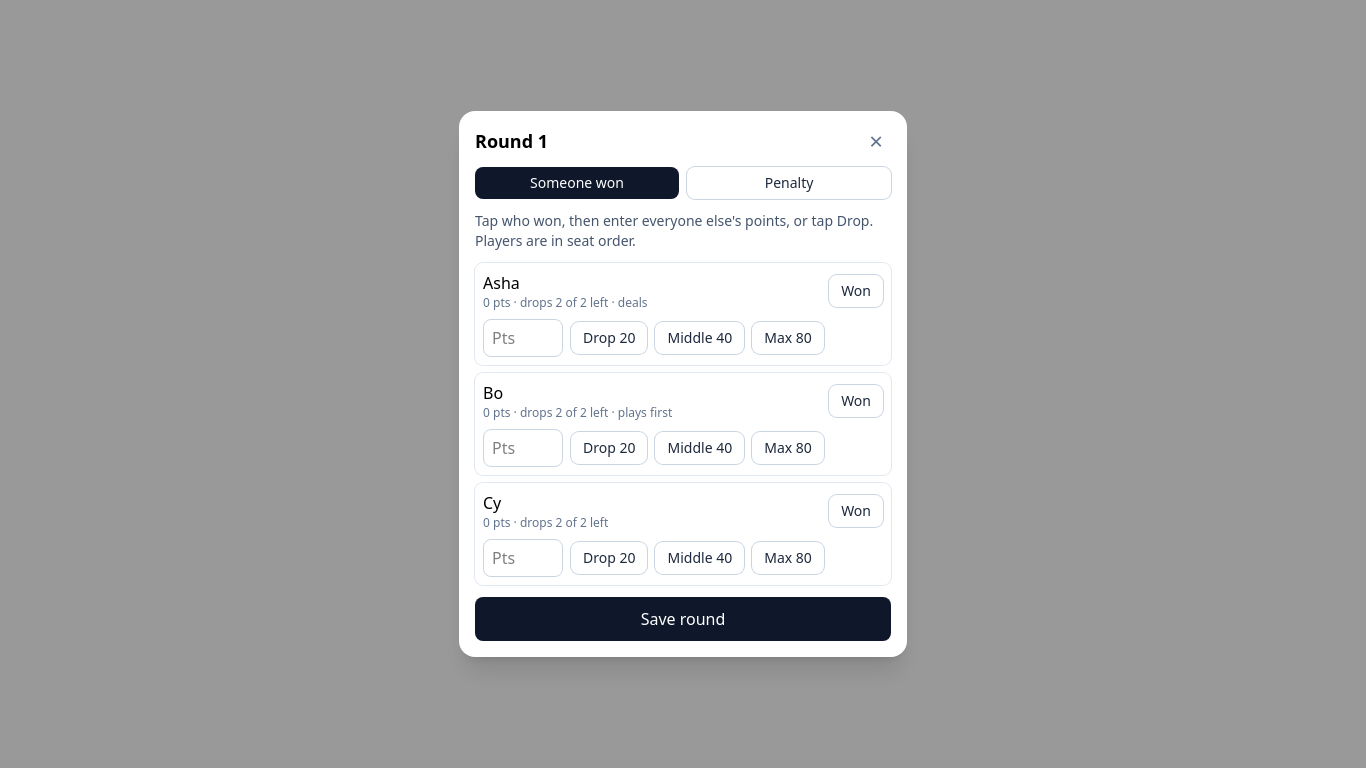
entering a penalty round › keeps what was typed for an ordinary round when switching to a penalty and back
This screenshot has width=1366, height=768.
Click the button "Won" in the row of "· deals" at x=856, y=291, box [829, 275, 883, 307]
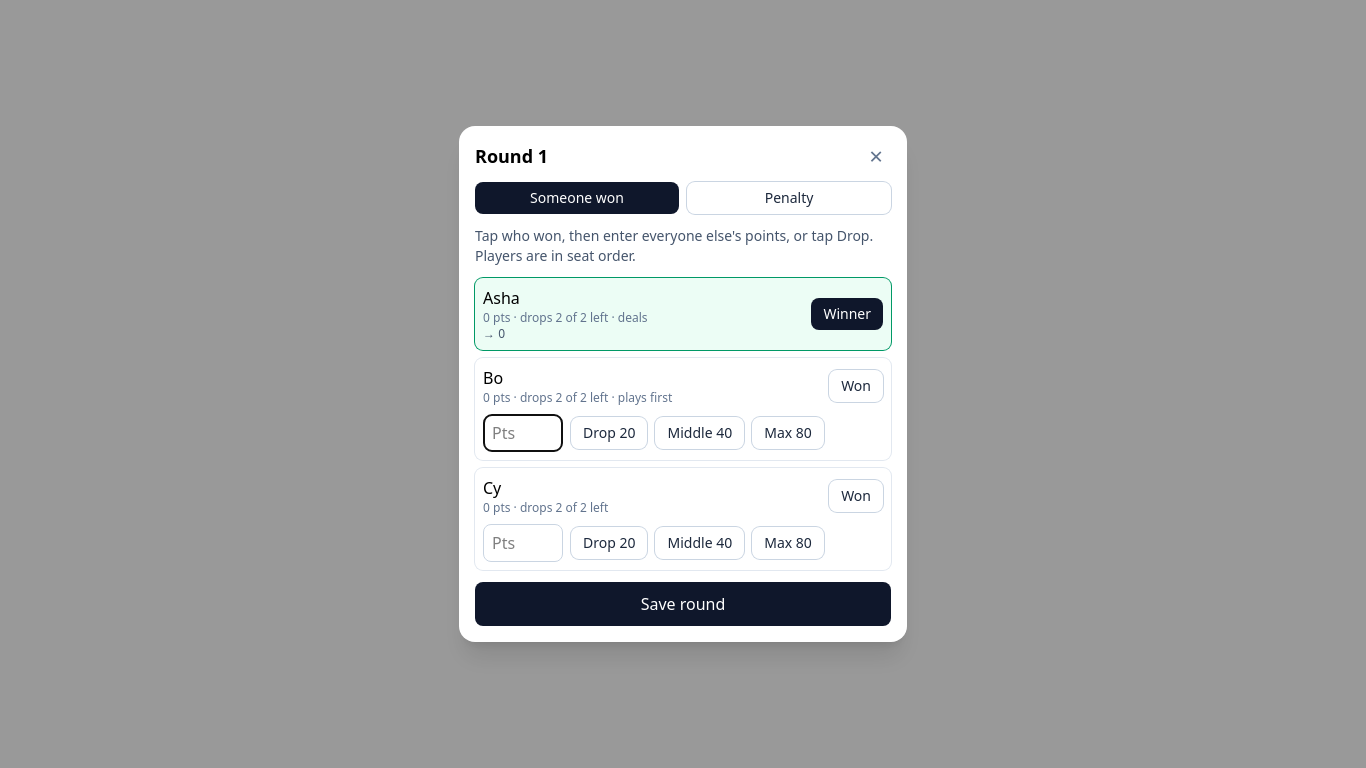
Type "25" into the field named "Bo points" at x=523, y=433, box [483, 414, 563, 452]
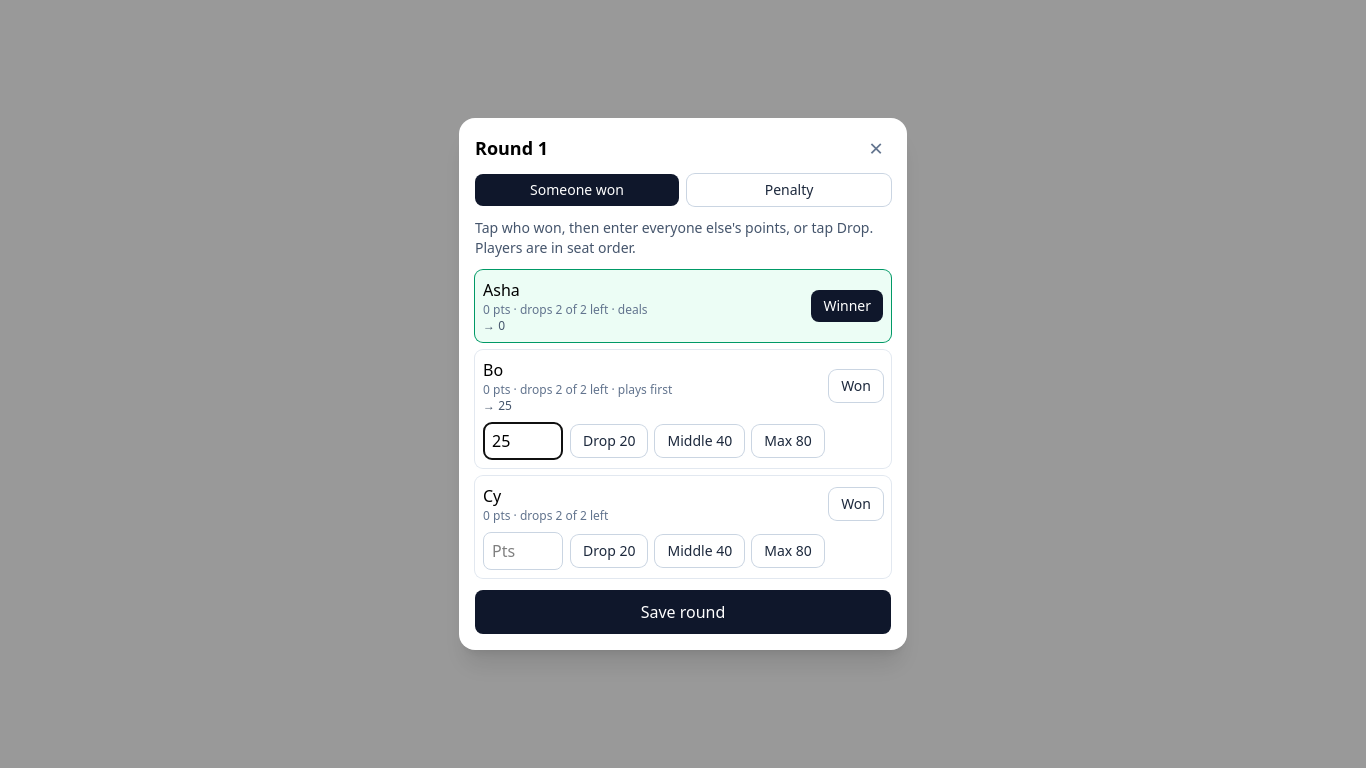
Click the radio button labelled "Penalty" at x=789, y=190, box [687, 174, 891, 206]
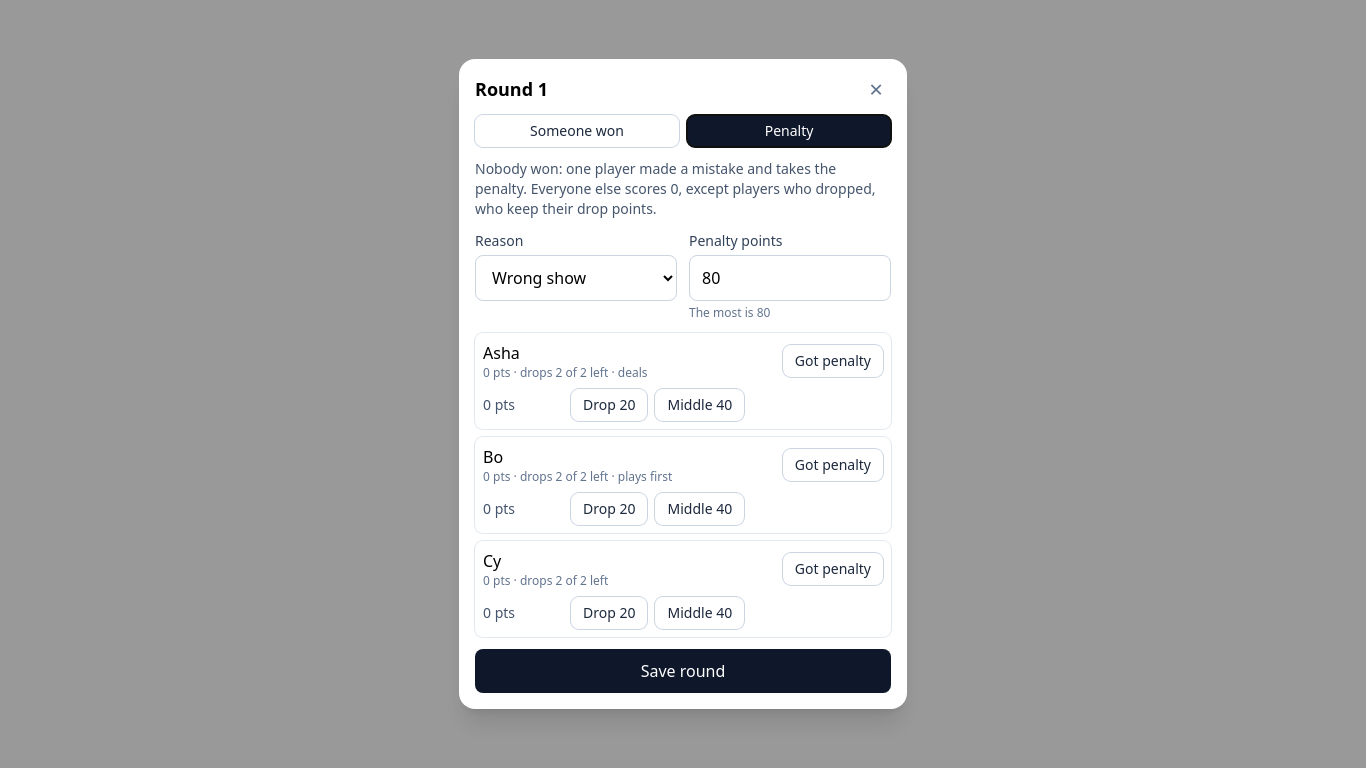
Click the radio button labelled "Someone won" at x=577, y=131, box [475, 115, 679, 147]
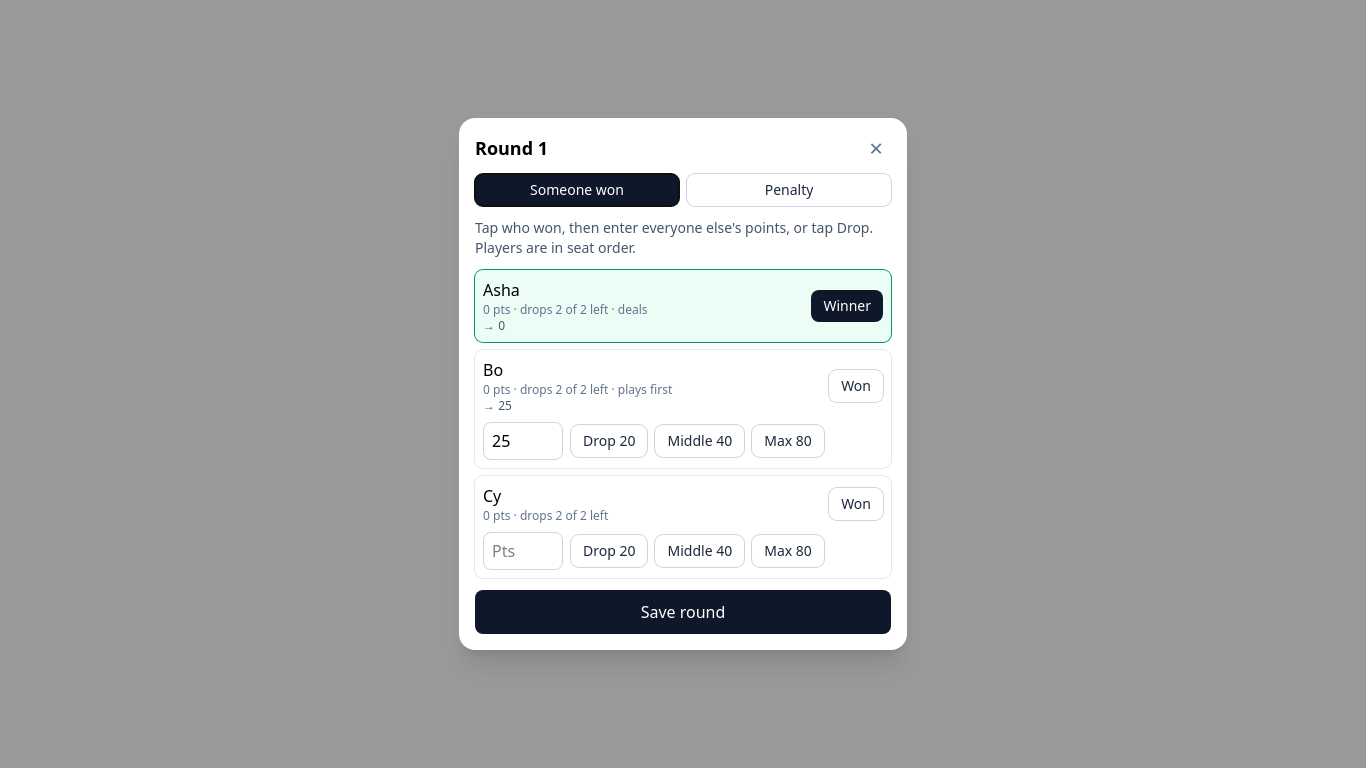
Expected: the field named "Bo points" holds "25", [483, 422, 563, 460]
Expected: the button "Winner" is shown, [811, 290, 883, 322]
